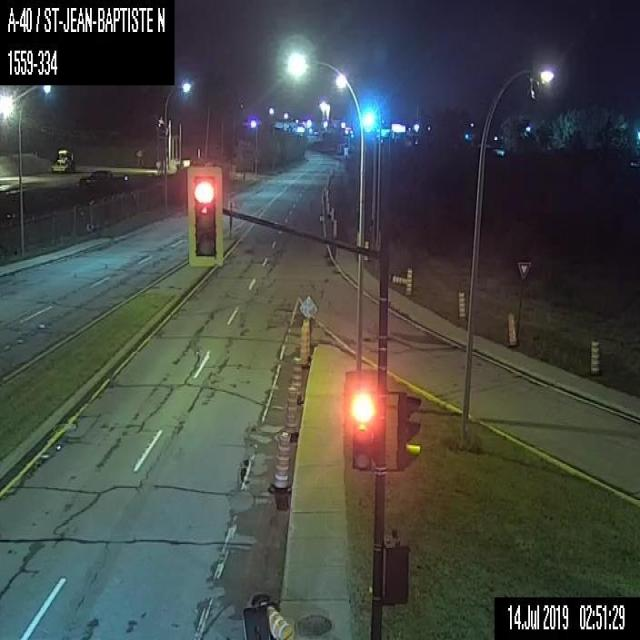construction: (241, 592, 290, 639), (271, 429, 290, 491), (284, 386, 298, 436), (289, 355, 303, 405), (300, 318, 310, 364), (589, 338, 601, 373), (506, 312, 516, 344), (456, 289, 466, 319), (404, 268, 412, 294), (390, 275, 407, 285), (363, 239, 368, 259), (332, 219, 337, 236), (331, 206, 334, 223), (326, 200, 329, 216), (325, 189, 328, 204), (269, 633, 273, 639)
